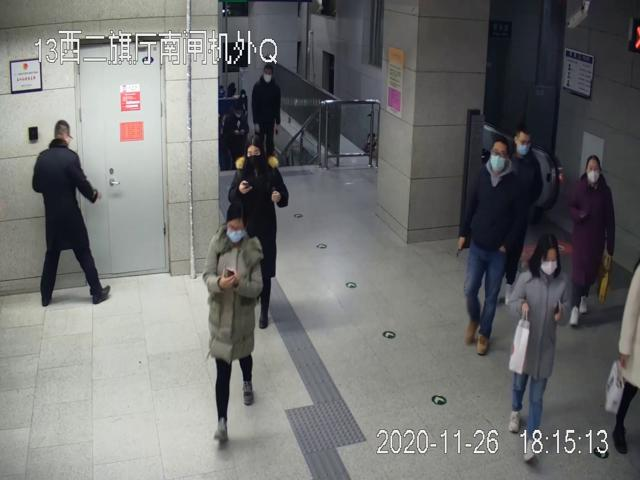person: (31, 119, 113, 305), (202, 202, 263, 441), (507, 229, 570, 459), (463, 139, 521, 353), (227, 135, 288, 330), (566, 152, 616, 325), (251, 60, 281, 160)
